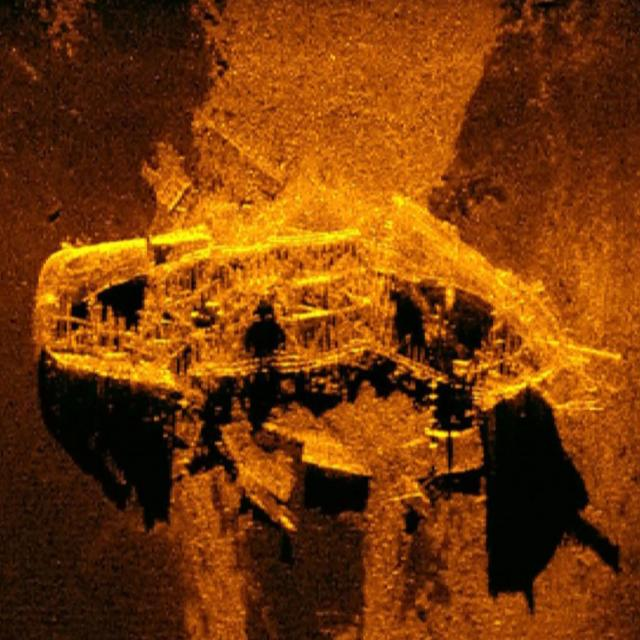ship: (35, 229, 616, 443)
